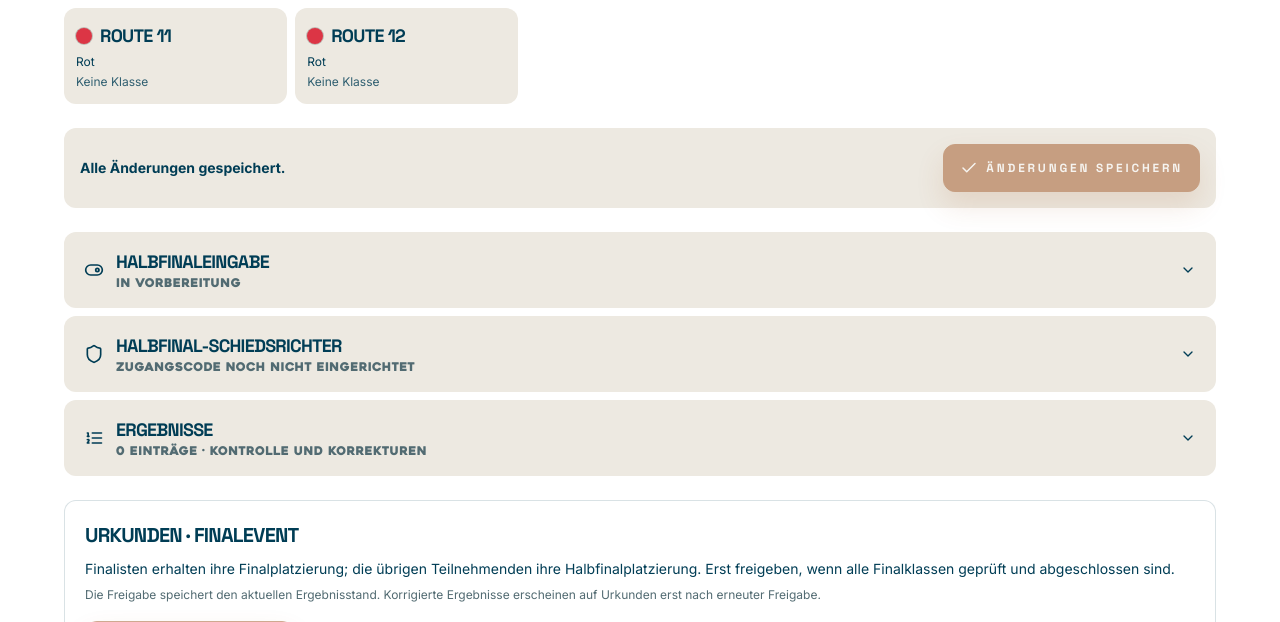
Test case: competition admin › requires explicit confirmation to open
Later steps or results of the test are not shown.
(page scrolled)
Click the button "Halbfinaleingabe In Vorbereitung" at coordinates (193, 262), box [64,232,1216,308]
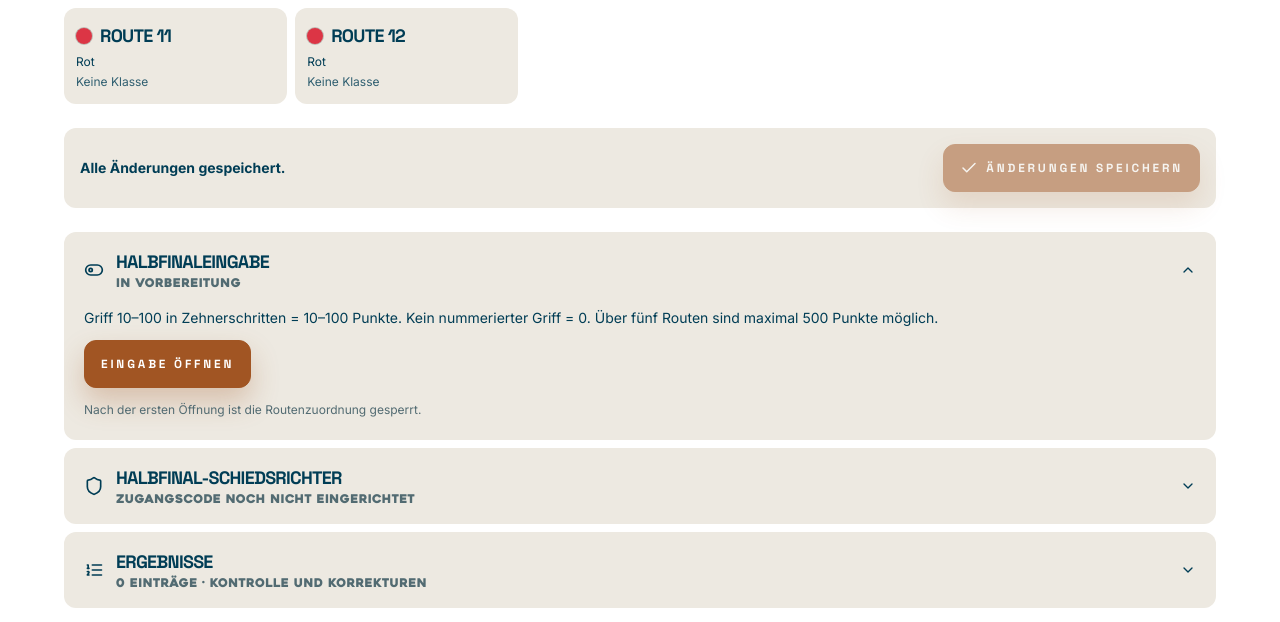
Check: the text "Griff 10–100 in Zehnerschritten = 10–100 Punkte" is shown, box [84,309,938,326]
Click the button "Eingabe öffnen" at coordinates (168, 364), box [84,340,251,388]
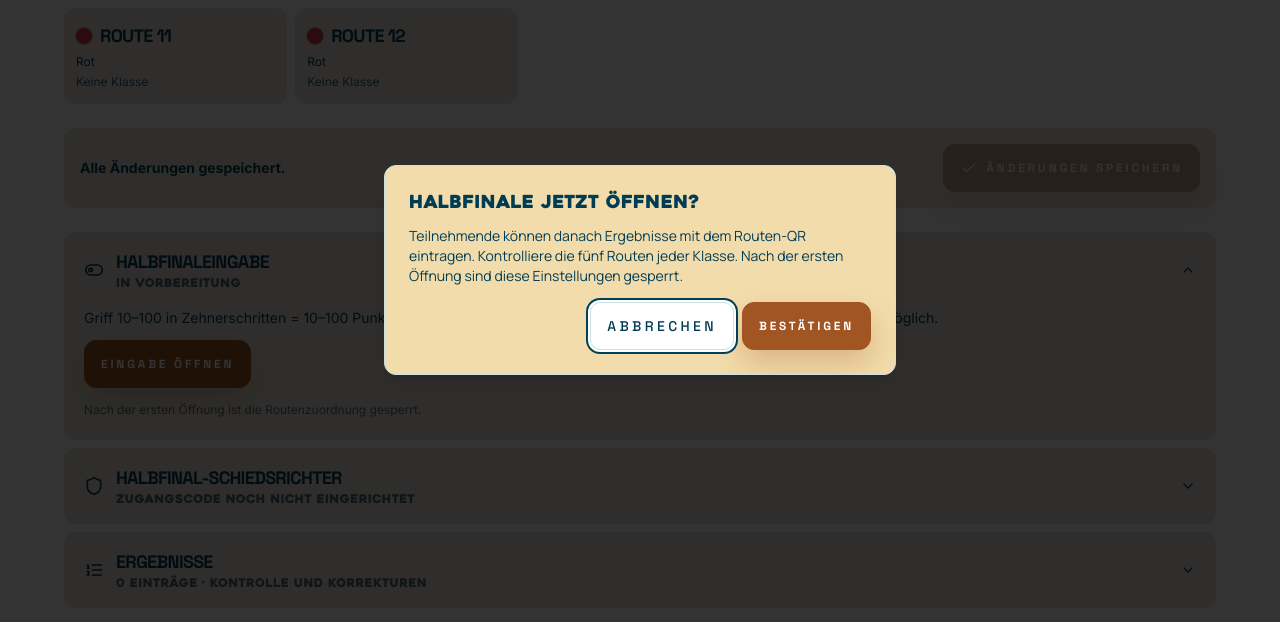
Check: the dialog shows "Nach der ersten Öffnung sind diese Einstellungen gesperrt", box [409,226,843,285]
